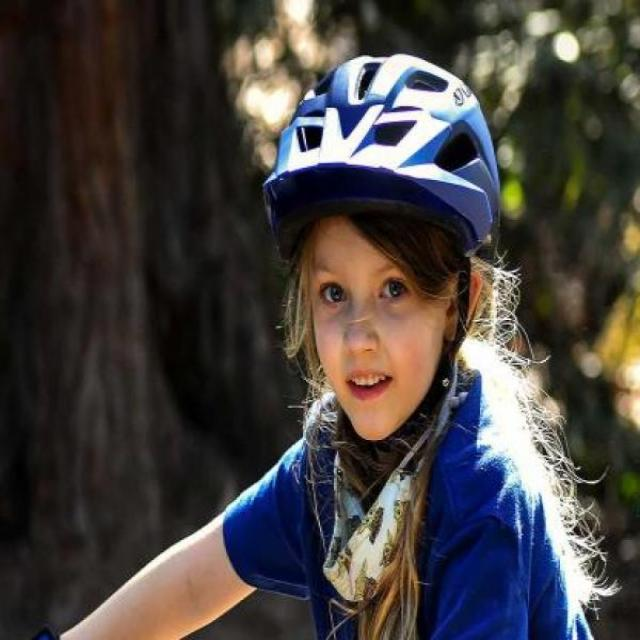Helmet: (264, 48, 506, 419)
